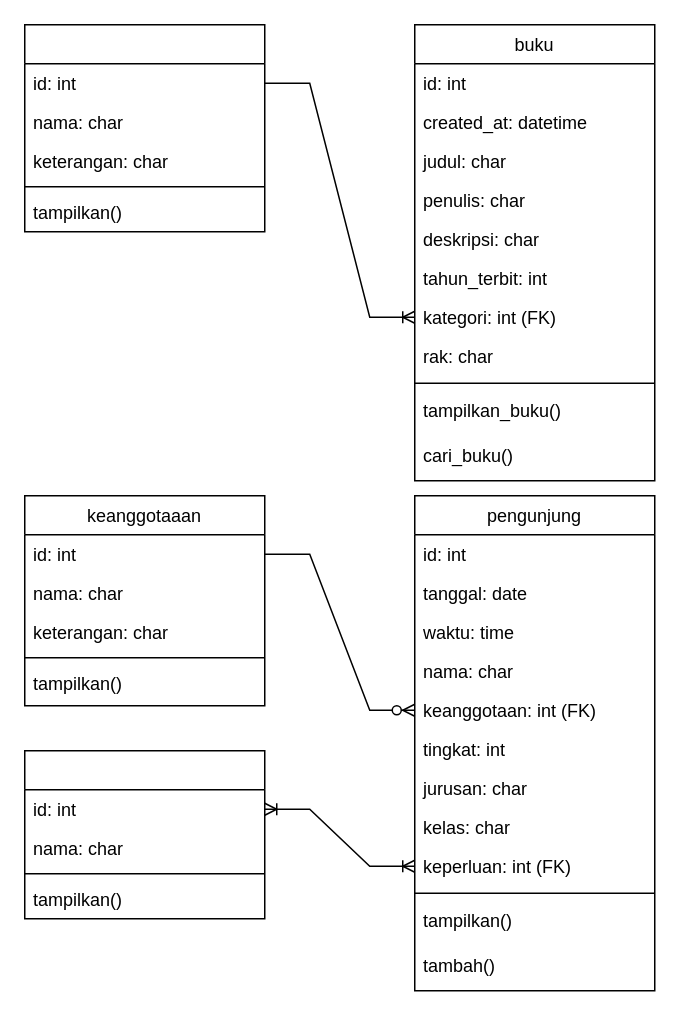
This 680x1016 diagram has some shape labels left out. Each missing label, with the box of its shape:
kategori_buku: (23, 23, 265, 232)
keperluan: (23, 749, 265, 919)
